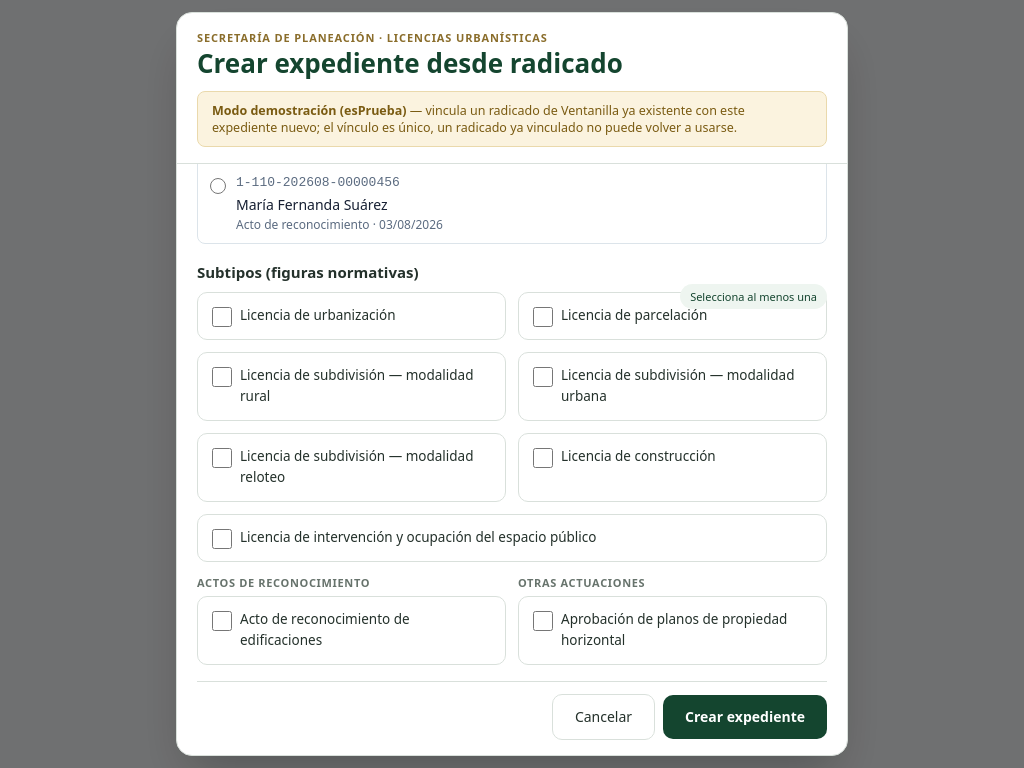
Scenario: Crear desde radicado — envío y errores del servidor › exige seleccionar un radicado y un subtipo antes de enviar
(page scrolled)
Step 1. Click the button "Crear expediente" → (745, 717), box 663,695 -> 827,739
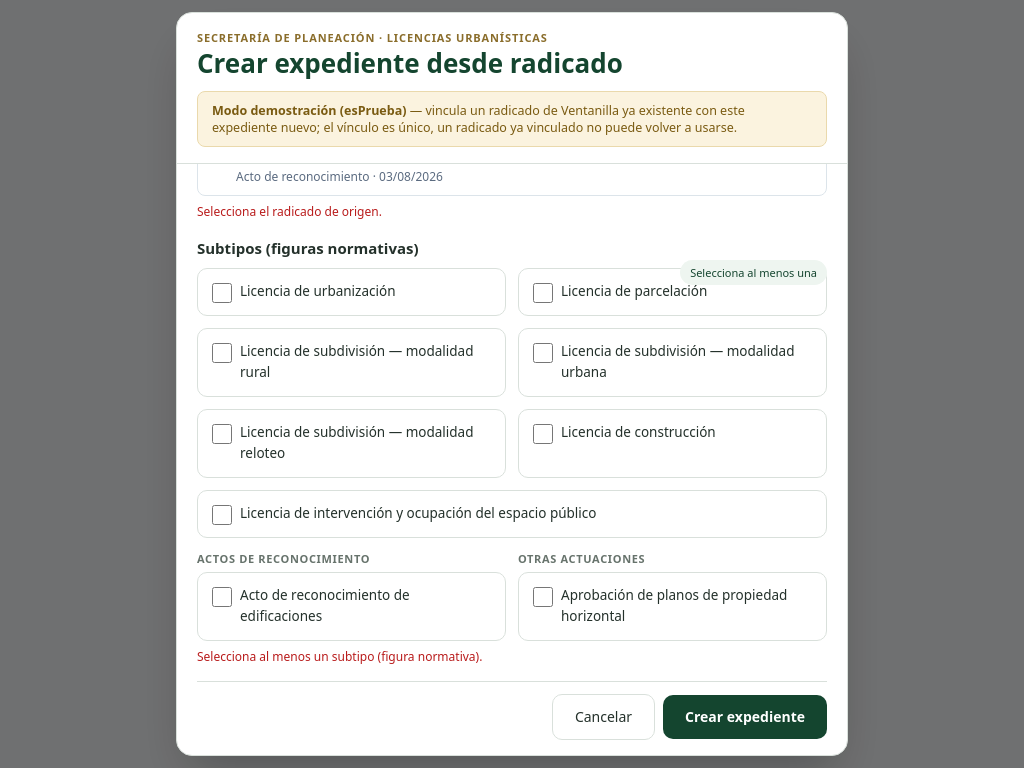
Check: the text "Selecciona el radicado de origen." is shown, box 197,203 -> 382,220
Check: the text "Selecciona al menos un subtipo (figura normativa)." is shown, box 197,648 -> 482,665
